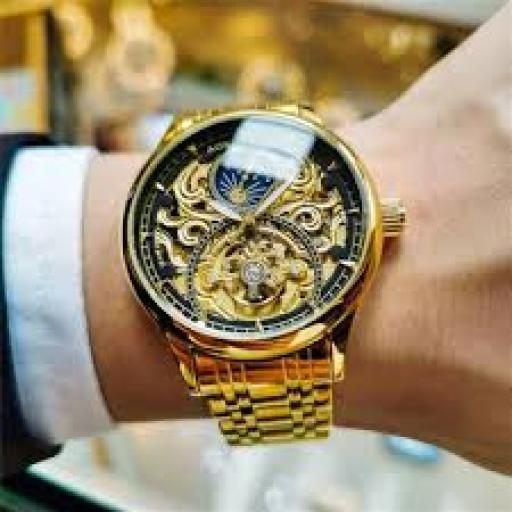KolSaati: (100, 66, 410, 450)
